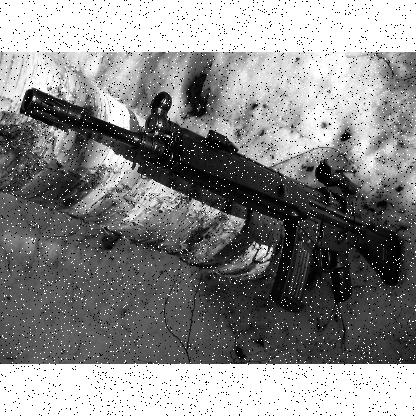gun: (20, 87, 400, 313)
